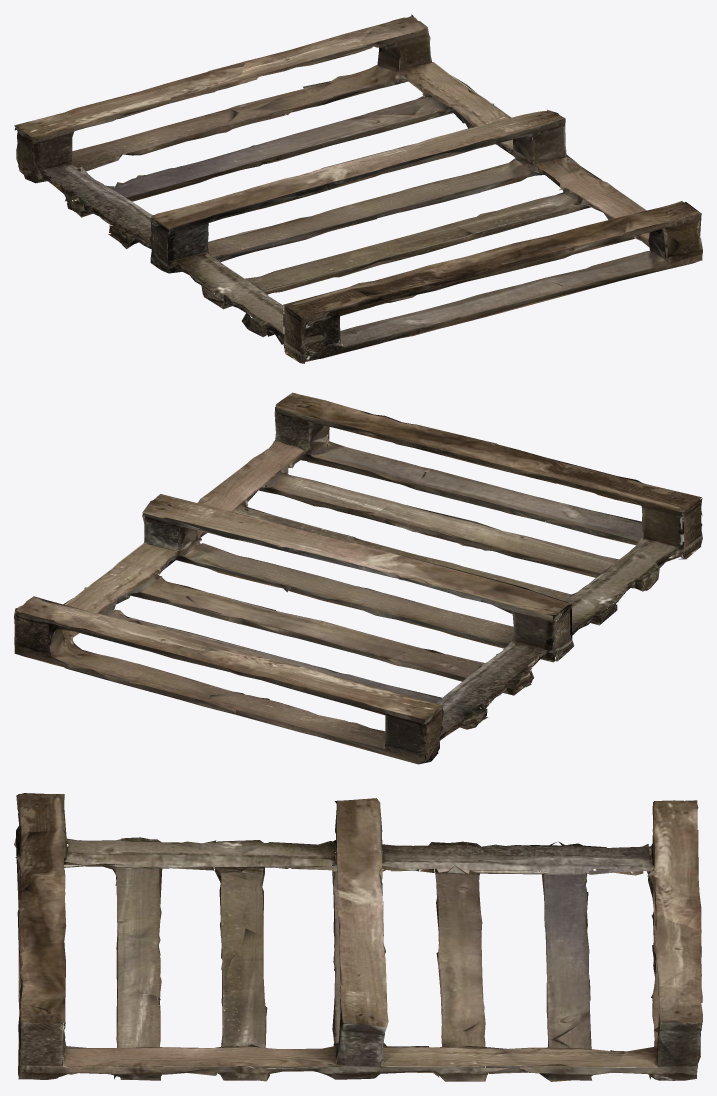
The model's file is pallet.glb.
3 renders of one model, top to bottom at view 1: azimuth 30°, elevation 25°; view 2: azimuth 150°, elevation 25°; view 3: azimuth 270°, elevation 25°, orthographic. The views are drawn at different scales.
Parts seen in each view (by area): view 1: Pallet; view 2: Pallet; view 3: Pallet.
Boxes of the visible parts, x1,y1,x2,y2 form: Pallet: [14, 14, 702, 363]; Pallet: [14, 392, 702, 764]; Pallet: [14, 793, 702, 1081].
Bounding box in the file's own units: 1.01 × 0.1518 × 1.22.
1 material, 1 textured.
